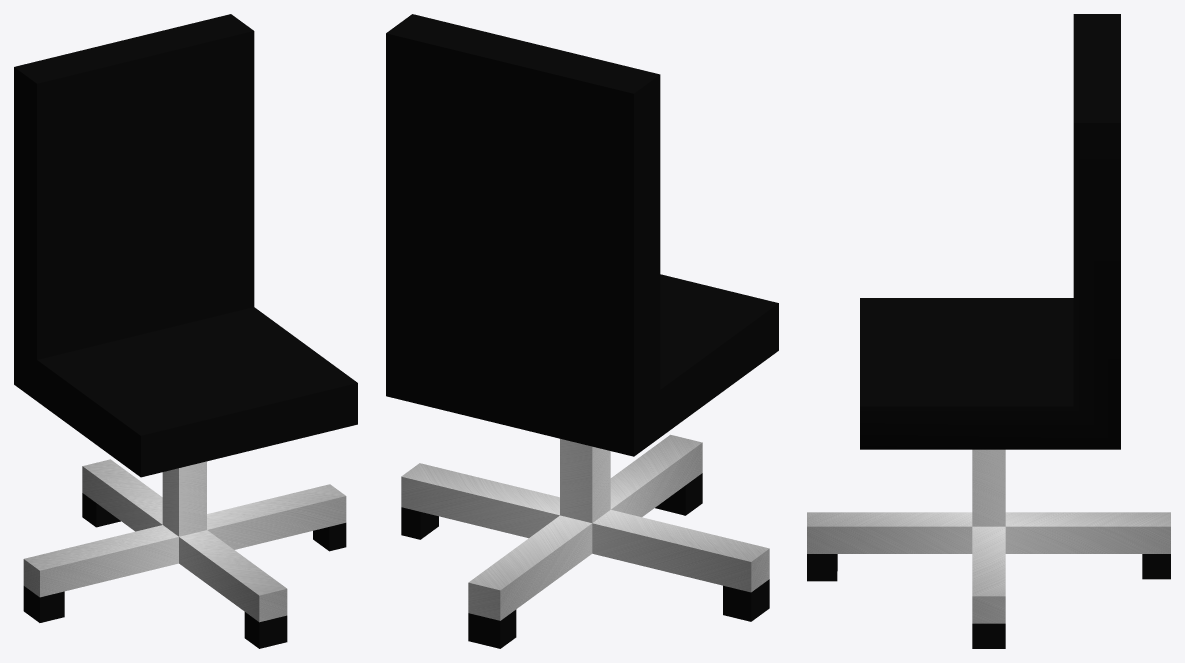
Rendered from Chair.fbx.
3 renders of one model, left to right at view 1: azimuth 30°, elevation 25°; view 2: azimuth 150°, elevation 25°; view 3: azimuth 270°, elevation 25°, orthographic. The views are drawn at different scales.
Parts seen in each view (by area): view 1: pCylinder2; view 2: pCylinder2; view 3: pCylinder2.
Part boxes in pixels (left/top/right/bottom): pCylinder2: left=14, top=14, right=357, bottom=648; pCylinder2: left=386, top=14, right=778, bottom=648; pCylinder2: left=807, top=14, right=1170, bottom=648.
Size of the model in its own units: 15.41 by 23.7 by 15.41.
